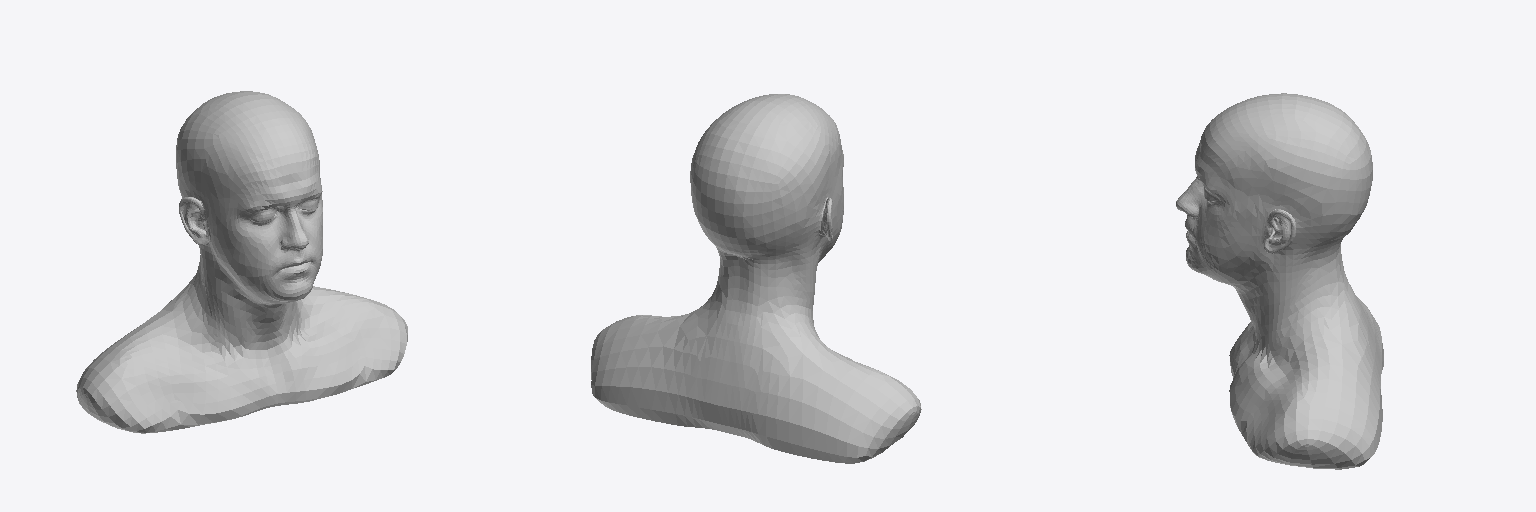
Rendered from lee.obj.
The picture shows the model from 3 angles: view 1: azimuth 30°, elevation 25°; view 2: azimuth 150°, elevation 25°; view 3: azimuth 270°, elevation 25°; orthographic projection.
Visible parts, largest first — view 1: Malla de; view 2: Malla de; view 3: Malla de.
Part boxes in pixels (left/top/right/bottom): Malla de: left=76, top=91, right=407, bottom=433; Malla de: left=591, top=94, right=921, bottom=463; Malla de: left=1176, top=93, right=1383, bottom=469.
Bounding box in the file's own units: 0.5573 × 0.5236 × 0.3194.